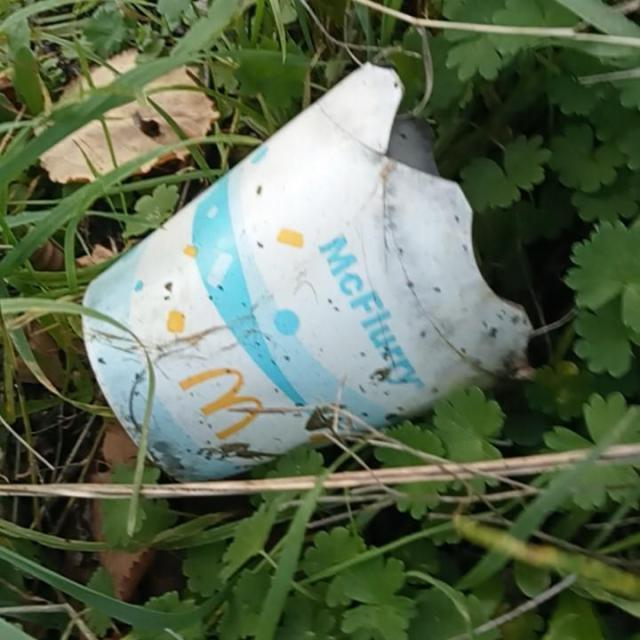Paper: (80, 58, 535, 484)
